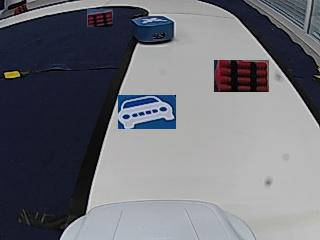prop: (132, 16, 174, 44)
